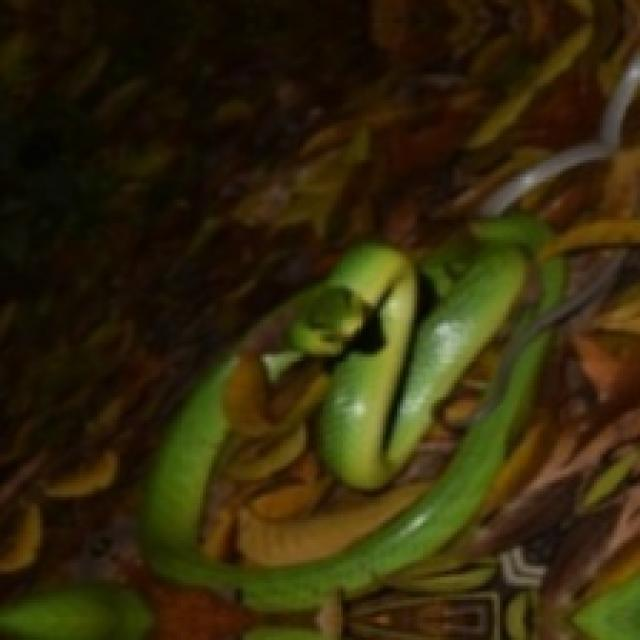red-tailed green ratsnake: (140, 214, 623, 609)
